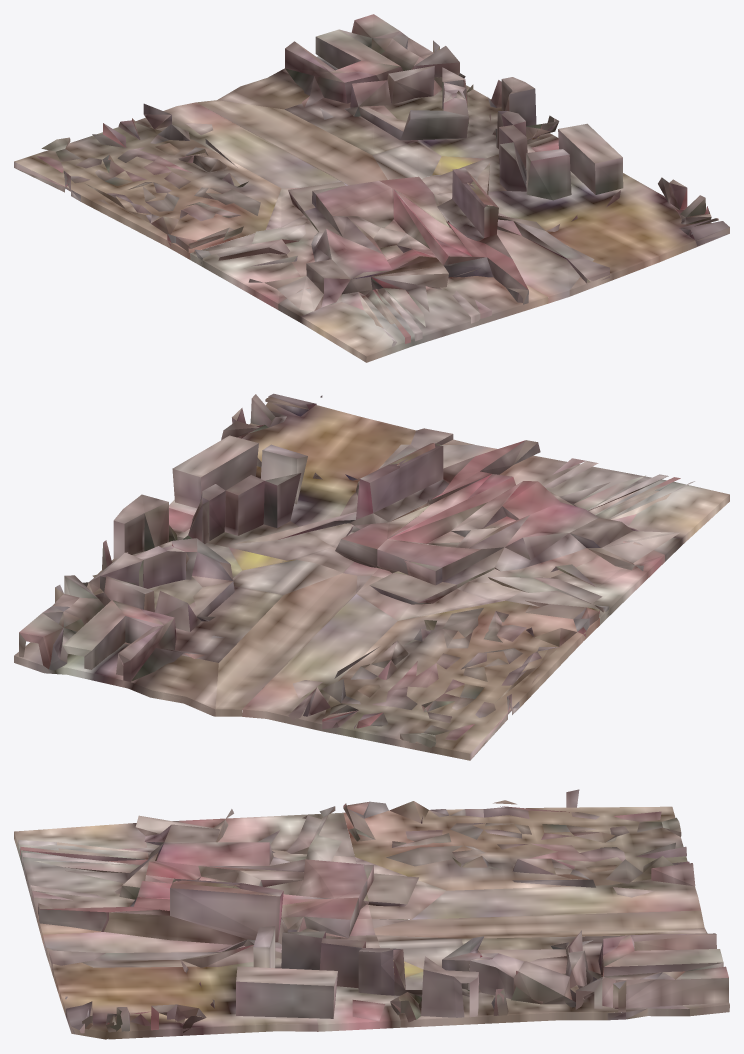
The picture shows the model from 3 angles, top to bottom: view 1: azimuth 30°, elevation 25°; view 2: azimuth 150°, elevation 25°; view 3: azimuth 270°, elevation 25°; orthographic projection. The views are drawn at different scales.
Visible parts, largest first — view 1: Mesh_0; view 2: Mesh_0; view 3: Mesh_0.
Part boxes in pixels (x1,y1,x2,y2): Mesh_0: (14,14,729,362); Mesh_0: (14,393,729,760); Mesh_0: (14,789,729,1039).
Bounding box in the file's own units: 532 × 74.69 × 659.
Materials: 1 (1 with a texture image).
